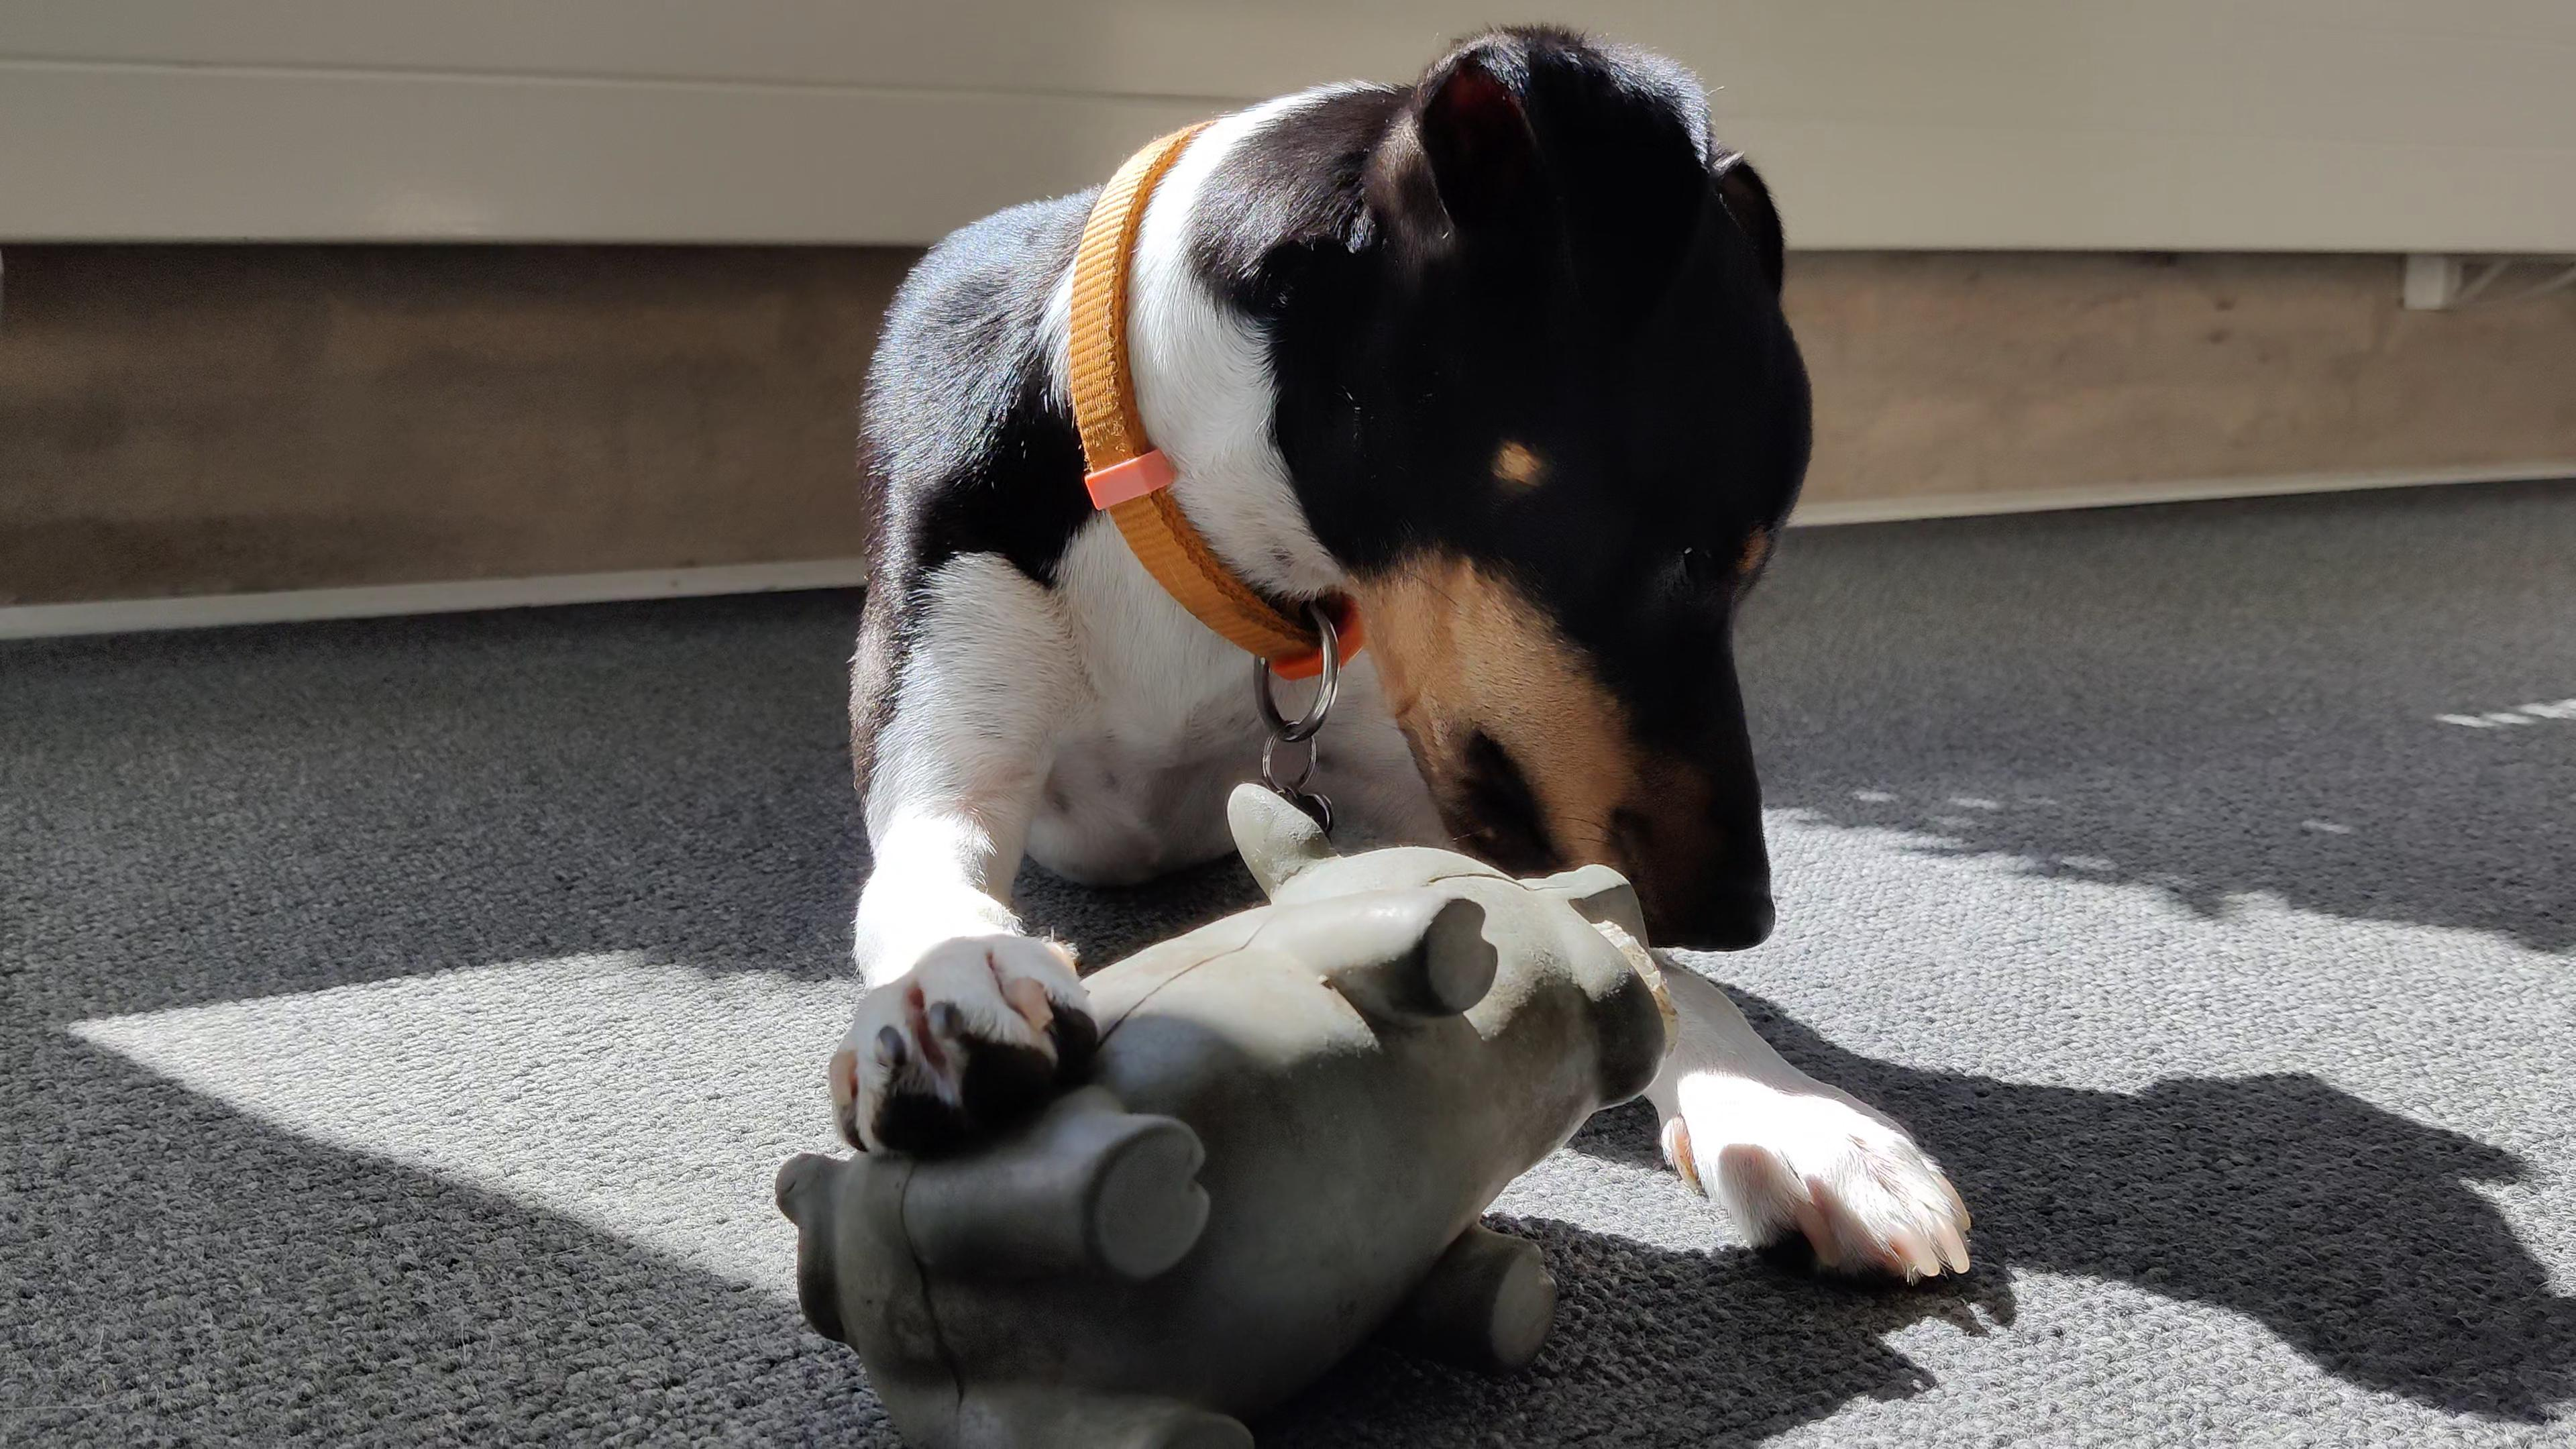Dog: (823, 16, 1976, 1299)
